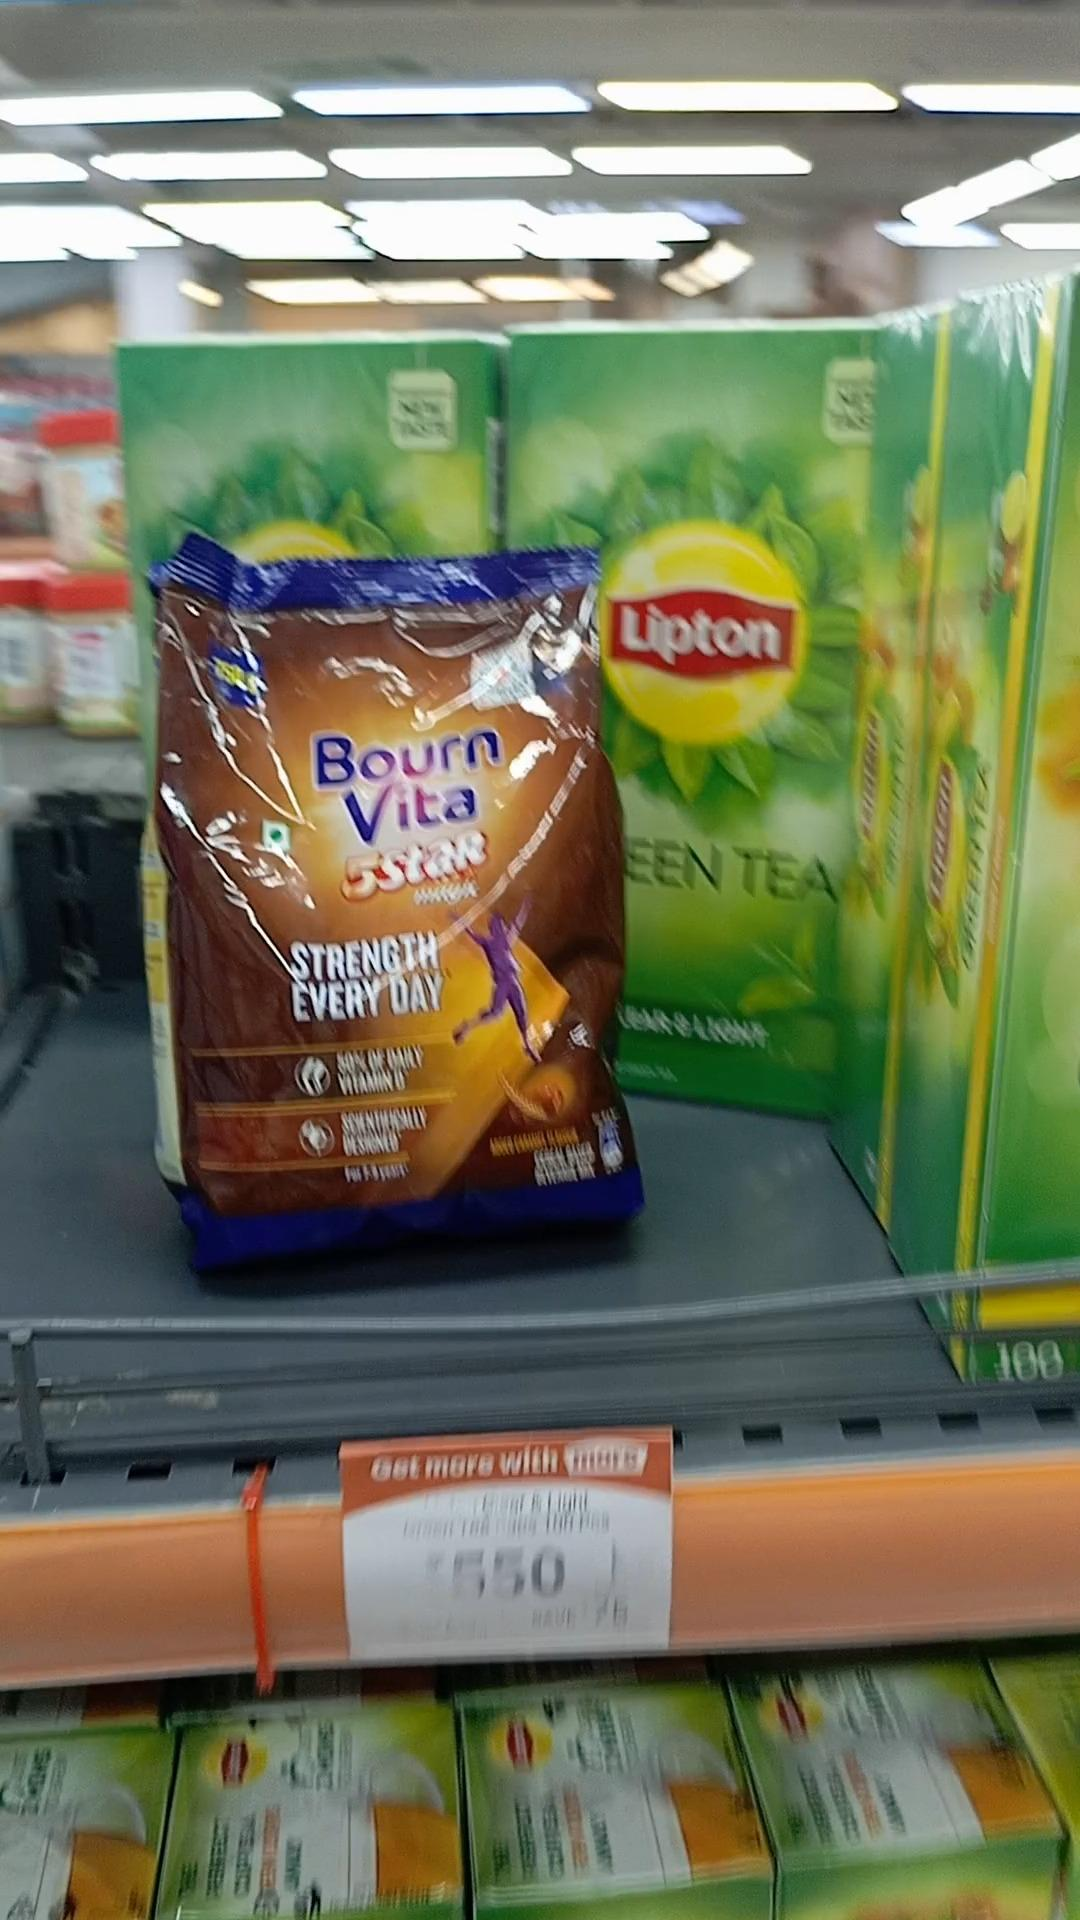BOURN_VITA_FIVE_STAR_MAGIC_750_G_POUCH: (148, 550, 624, 1238)
